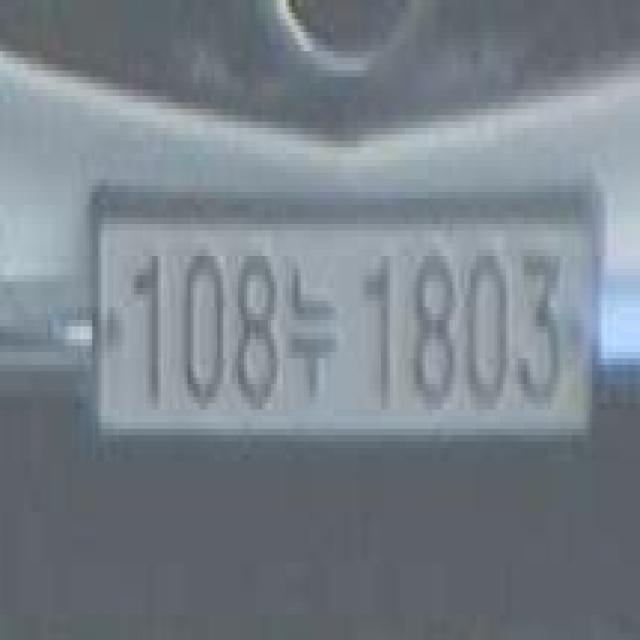illegal_plate: (88, 182, 600, 474)
